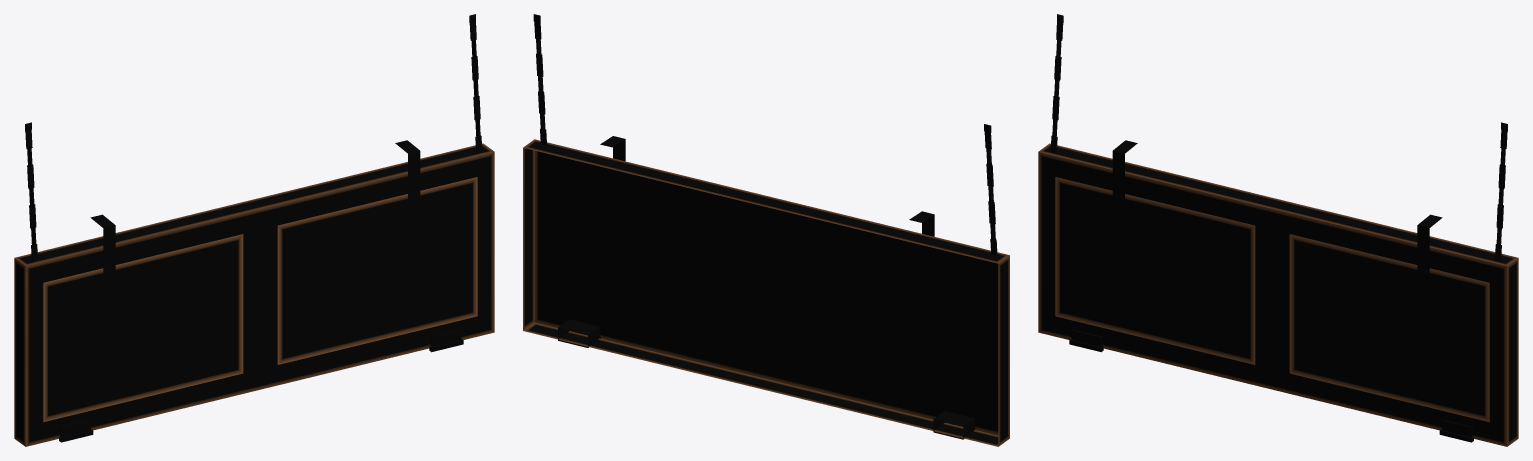
File: folded_berth_190.glb
The picture shows the model from 3 angles, left to right: view 1: azimuth 30°, elevation 25°; view 2: azimuth 150°, elevation 25°; view 3: azimuth 330°, elevation 25°; orthographic projection.
Visible parts, largest first — view 1: teak, frame, leather, steel, brass; view 2: frame, steel, brass, leather; view 3: teak, frame, leather, steel, brass.
Boxes of the visible parts, <box> form: teak: <box>43,177,477,422</box>; frame: <box>14,143,494,446</box>; leather: <box>90,140,420,289</box>; steel: <box>25,14,482,261</box>; brass: <box>59,194,463,442</box>; frame: <box>523,139,1009,446</box>; steel: <box>533,14,997,255</box>; brass: <box>558,319,975,439</box>; leather: <box>600,136,934,236</box>; teak: <box>1055,177,1489,422</box>; frame: <box>1038,143,1518,446</box>; leather: <box>1112,140,1442,289</box>; steel: <box>1050,14,1507,261</box>; brass: <box>1069,194,1473,442</box>.
Size of the model in its own units: 1.9 by 1.22 by 0.097.
